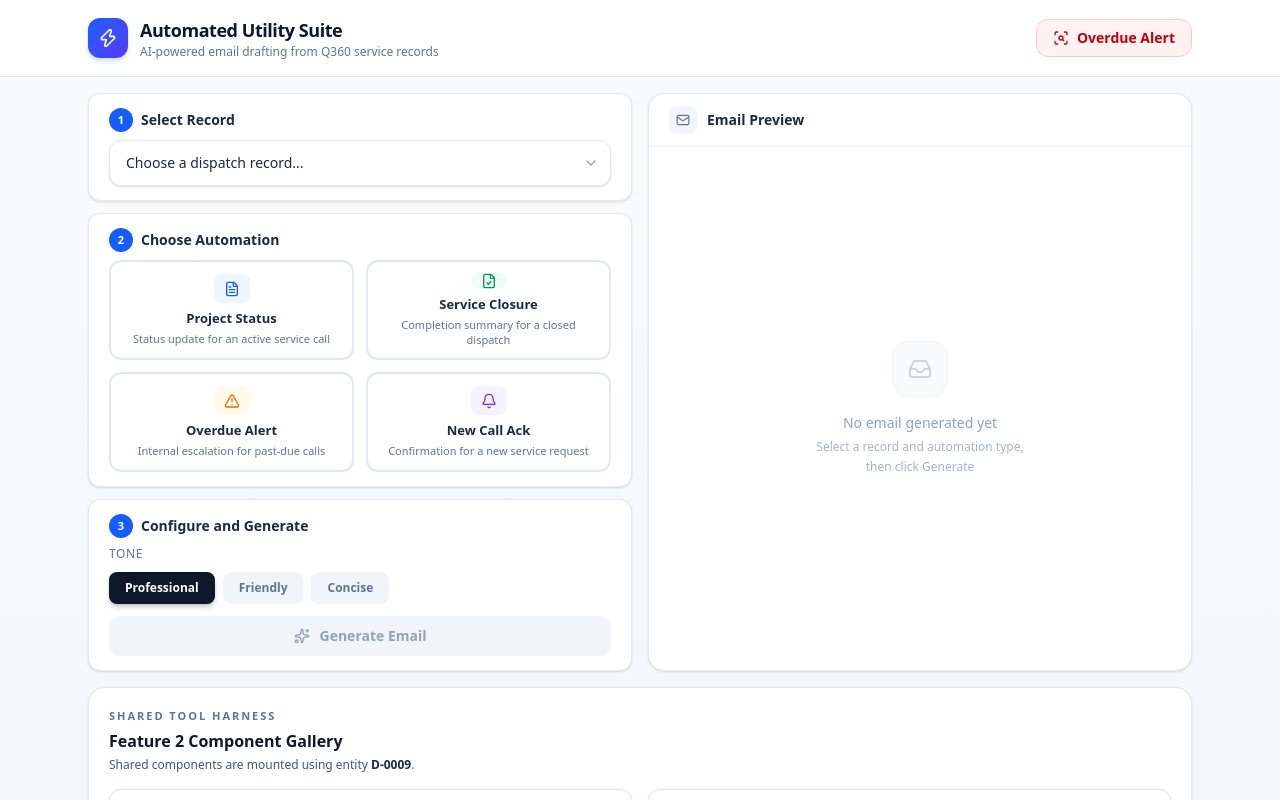
Test: Feature2Page — record clears when automation type changes › clears selected record when switching from project-status to service-closure
Click the button "Project Status Status update for an active service call": (232, 310) 109,260 -> 354,360
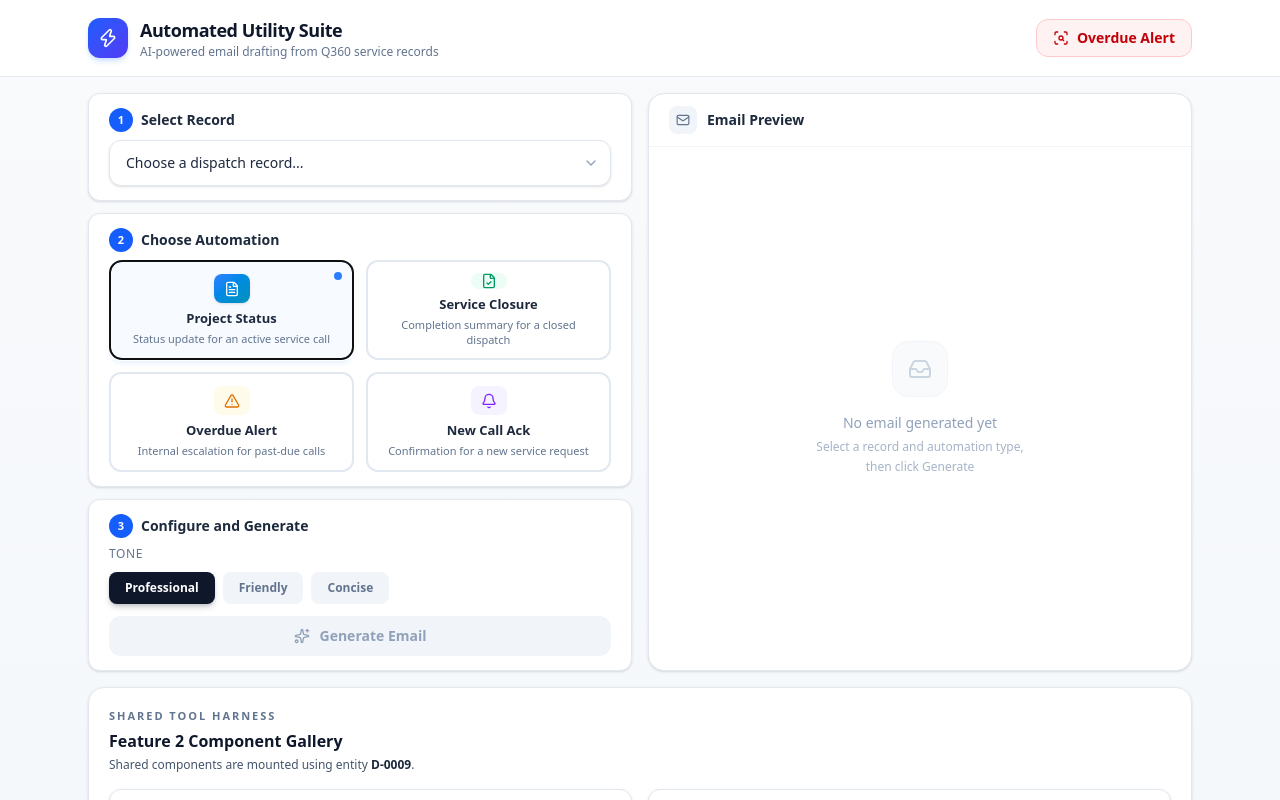
Select "[D-OPEN] Open Corp - OPEN" in the dropdown: (360, 163) 109,140 -> 611,186
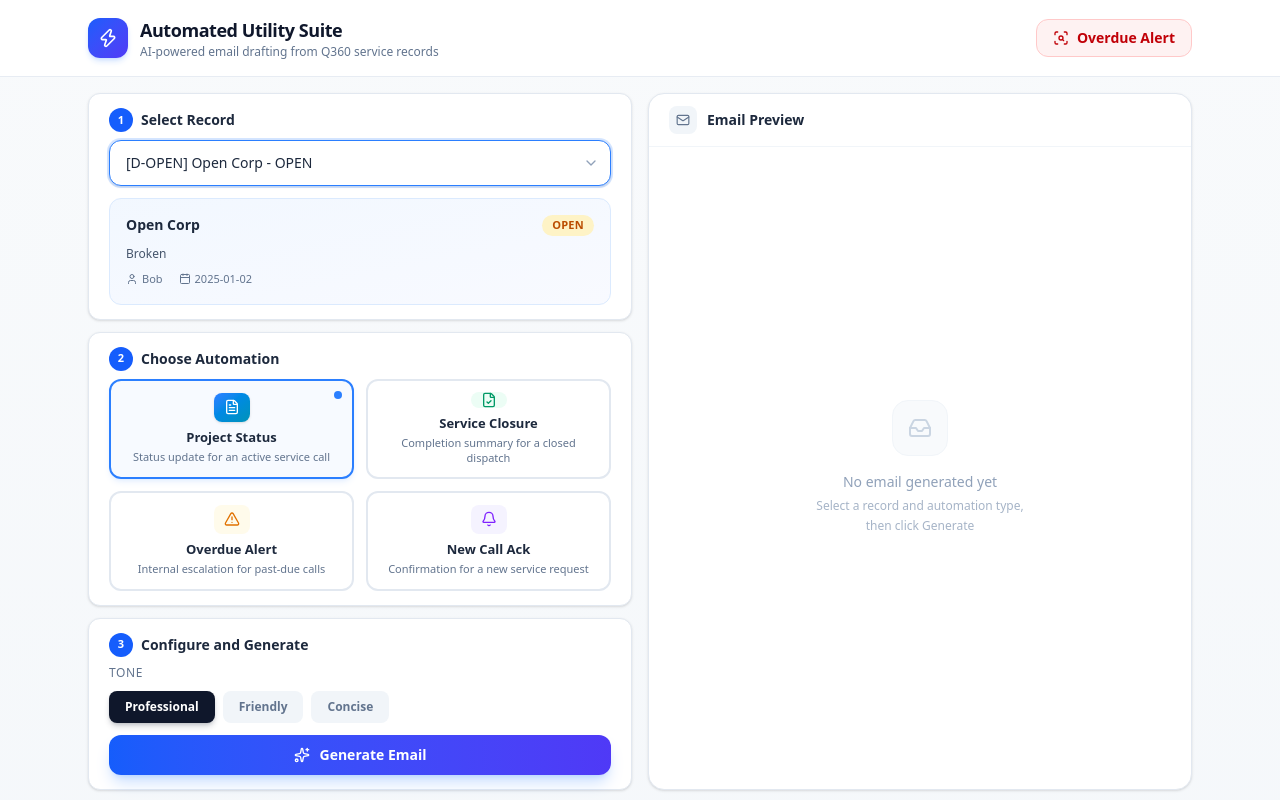
Result: the text "Open Corp" is shown at 126,215 -> 200,235
Click the button "Service Closure Completion summary for a closed dispatch": (488, 428) 366,378 -> 611,478
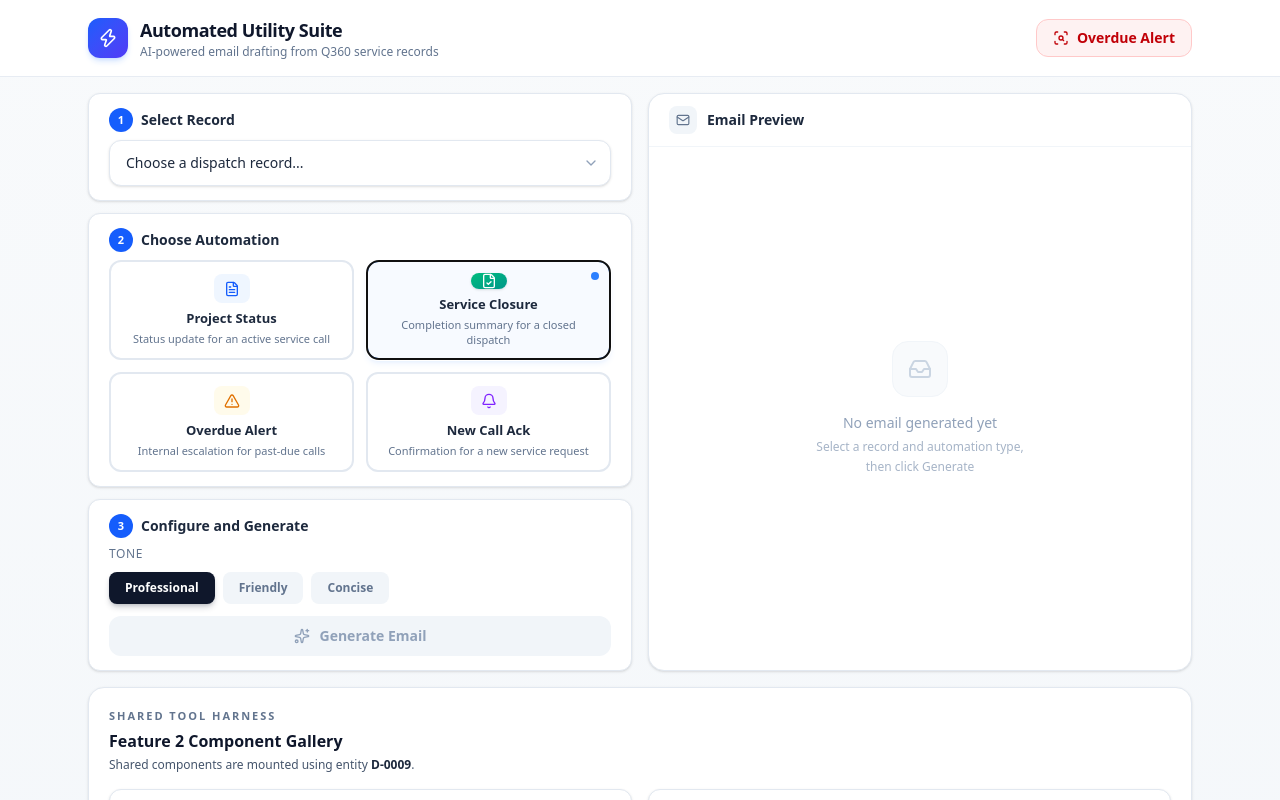
Result: the text "Open Corp" is gone
